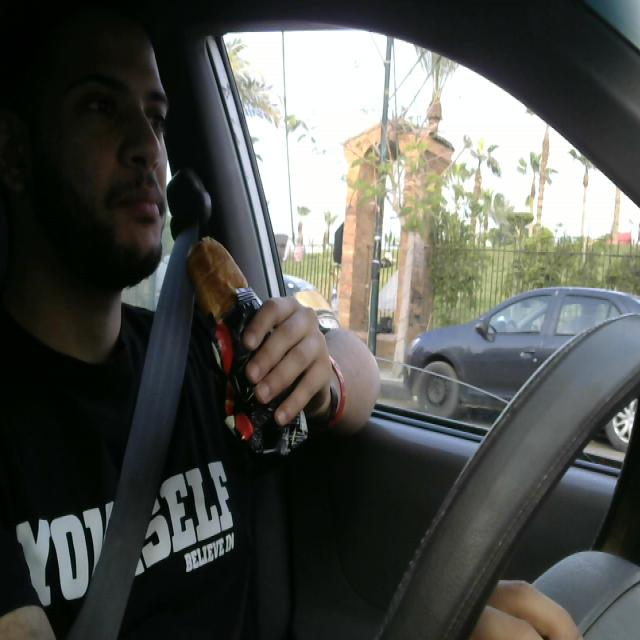eating: (187, 231, 310, 459)
